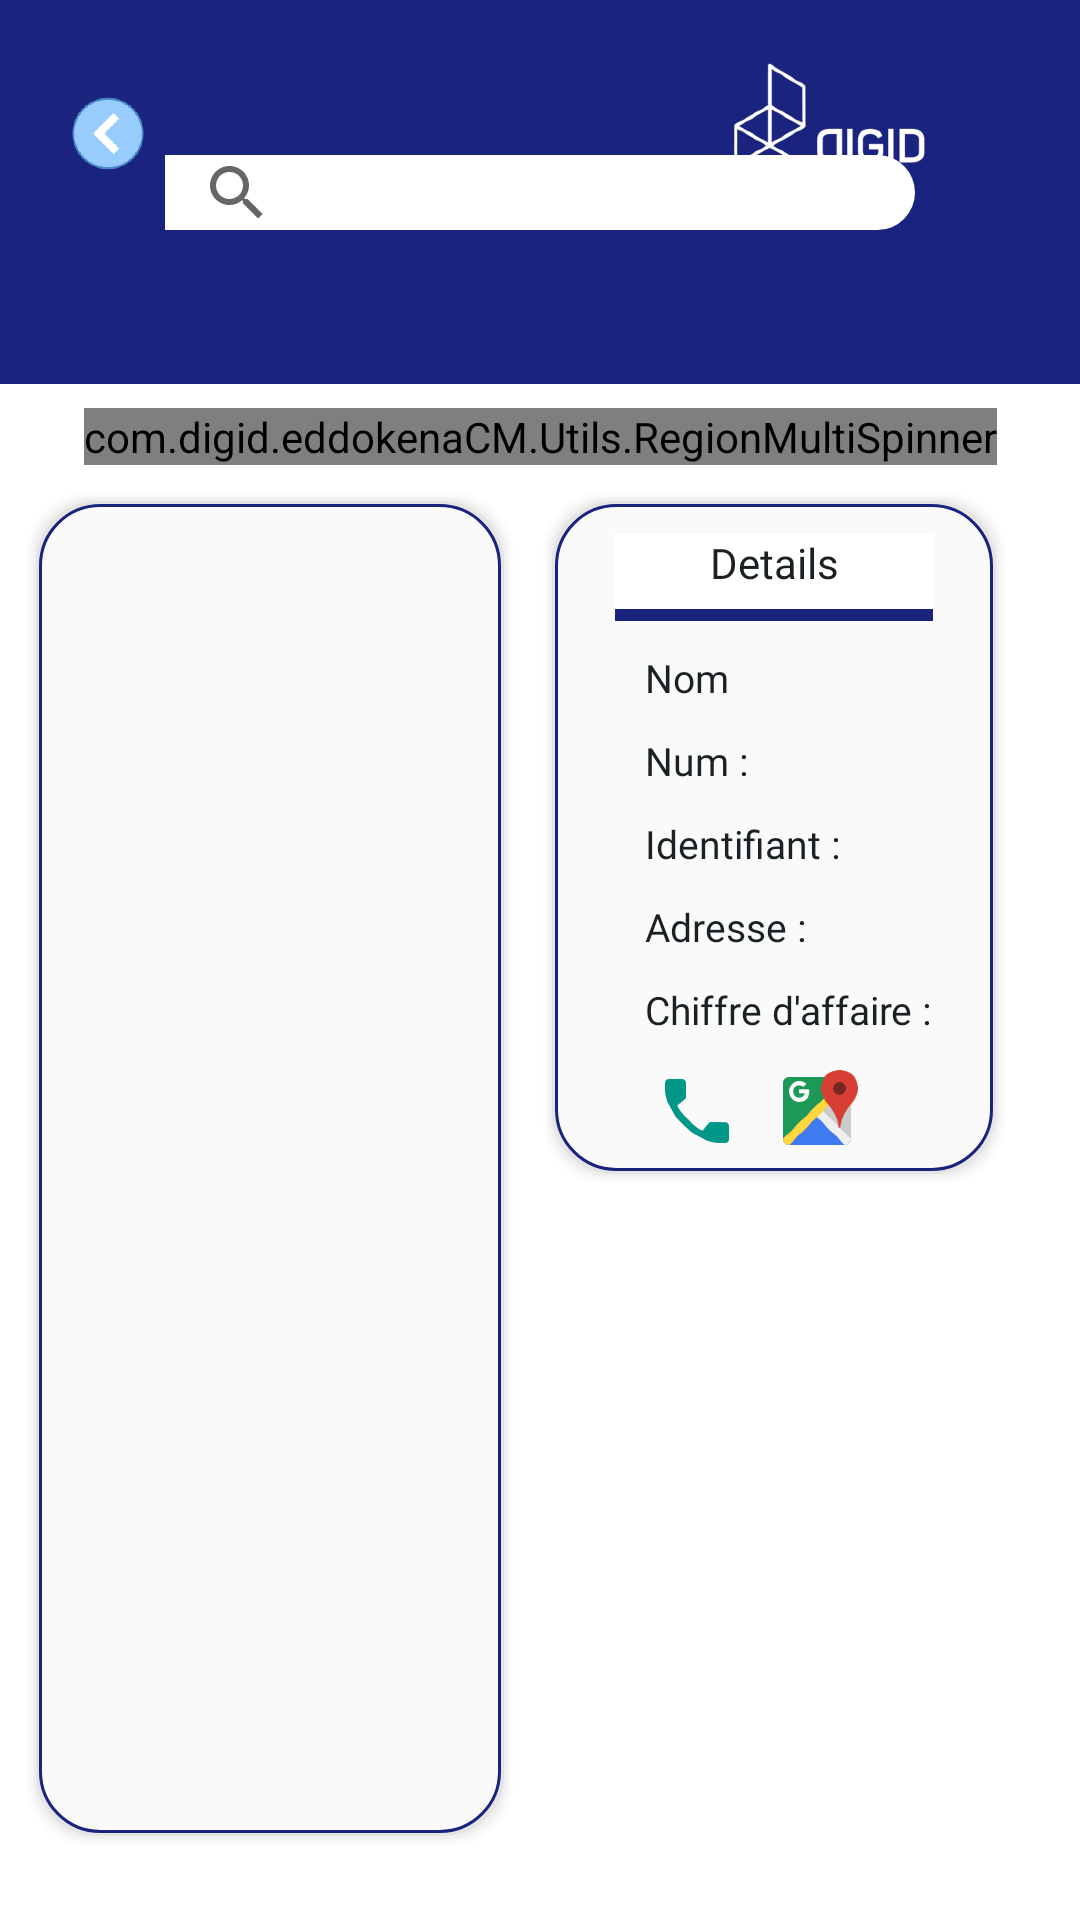

Icon bounding boxes for this 1080*1920 phone screenshot, format (x1, y1, x2, y2):
iconback: (72, 98, 144, 169)
iconcall: (665, 1079, 729, 1143)
